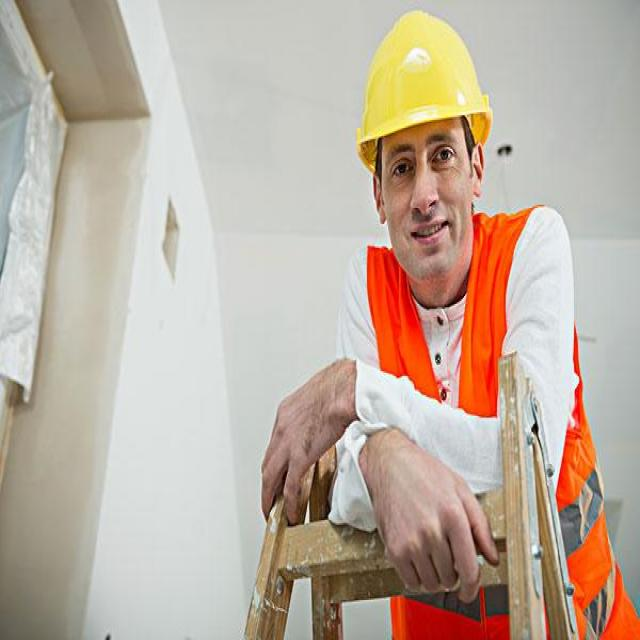Reflective-Jacket: (342, 221, 612, 637)
Safety-Helmet: (352, 6, 493, 157)
